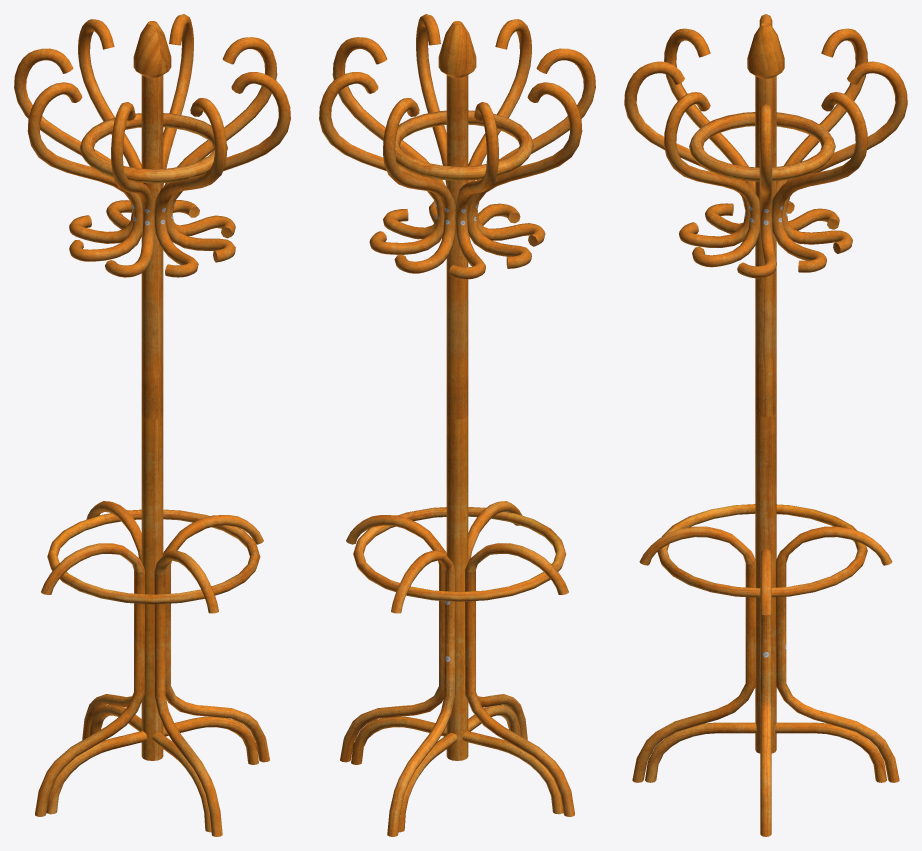
File: Coatrack.FBX
3 renders of one model, left to right at view 1: azimuth 30°, elevation 25°; view 2: azimuth 150°, elevation 25°; view 3: azimuth 270°, elevation 25°, orthographic.
Visible parts, largest first — view 1: Coatrack; view 2: Coatrack; view 3: Coatrack.
Part boxes in pixels (box(x1,y1,x2,y2)): Coatrack: box(14, 14, 290, 836); Coatrack: box(319, 14, 595, 836); Coatrack: box(624, 14, 907, 836).
Bounding box in the file's own units: 80.1 × 80.1 × 236.
